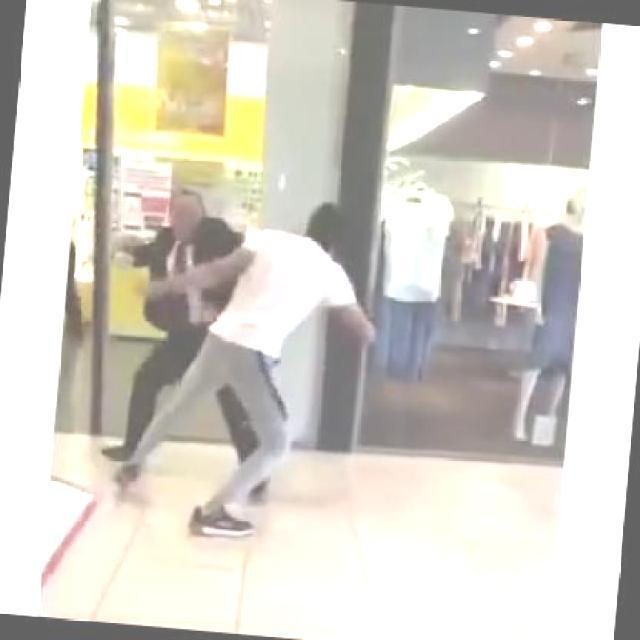fight: (88, 176, 380, 544)
